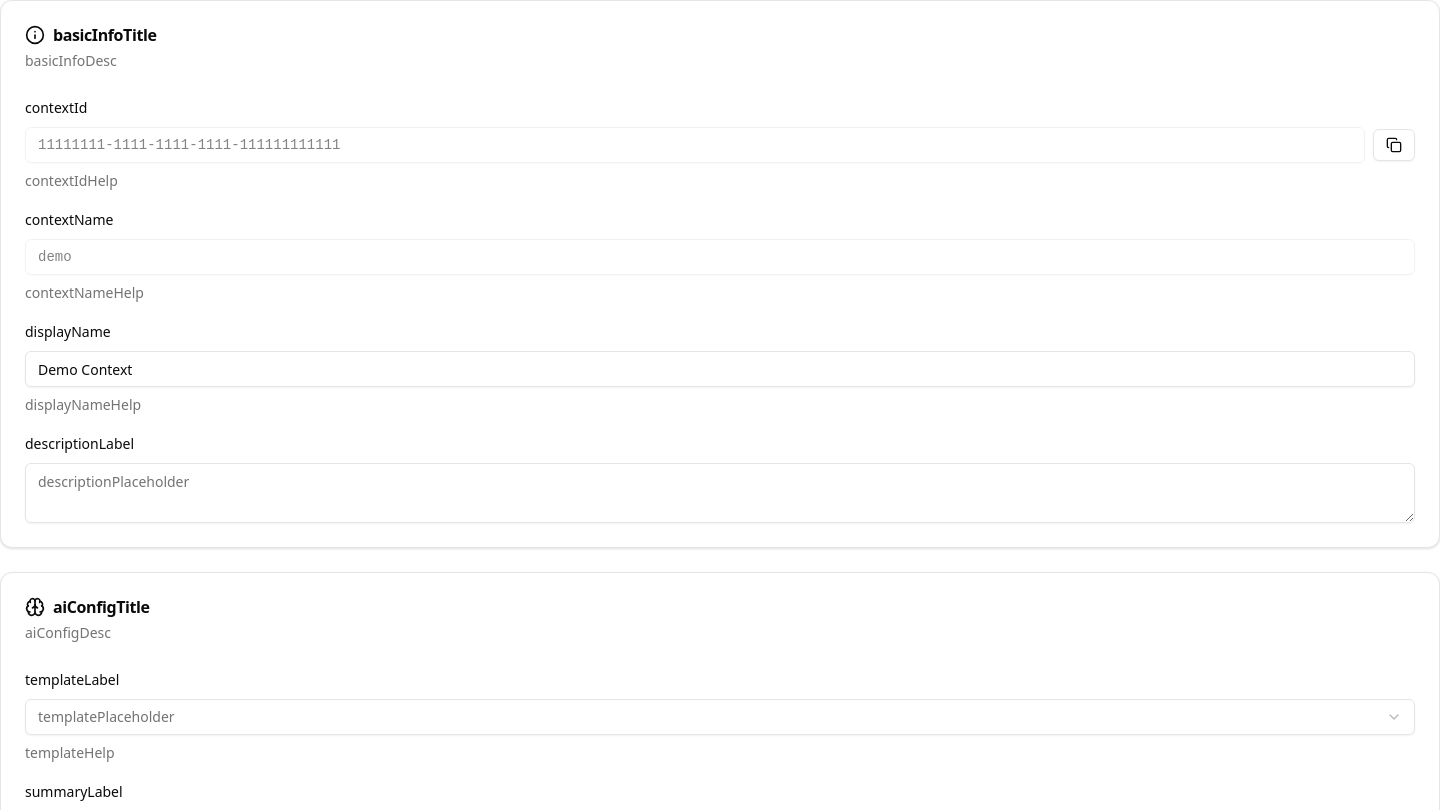
Scenario: SettingsTabPanel — dirty-field-only save (#1193) › edit-then-revert save is a no-op: no request, no refresh (#1194 review)
Step 1. Replace the text in the 3rd field showing "Demo Context" with "Renamed" → (720, 369), box [25,351,1415,387]
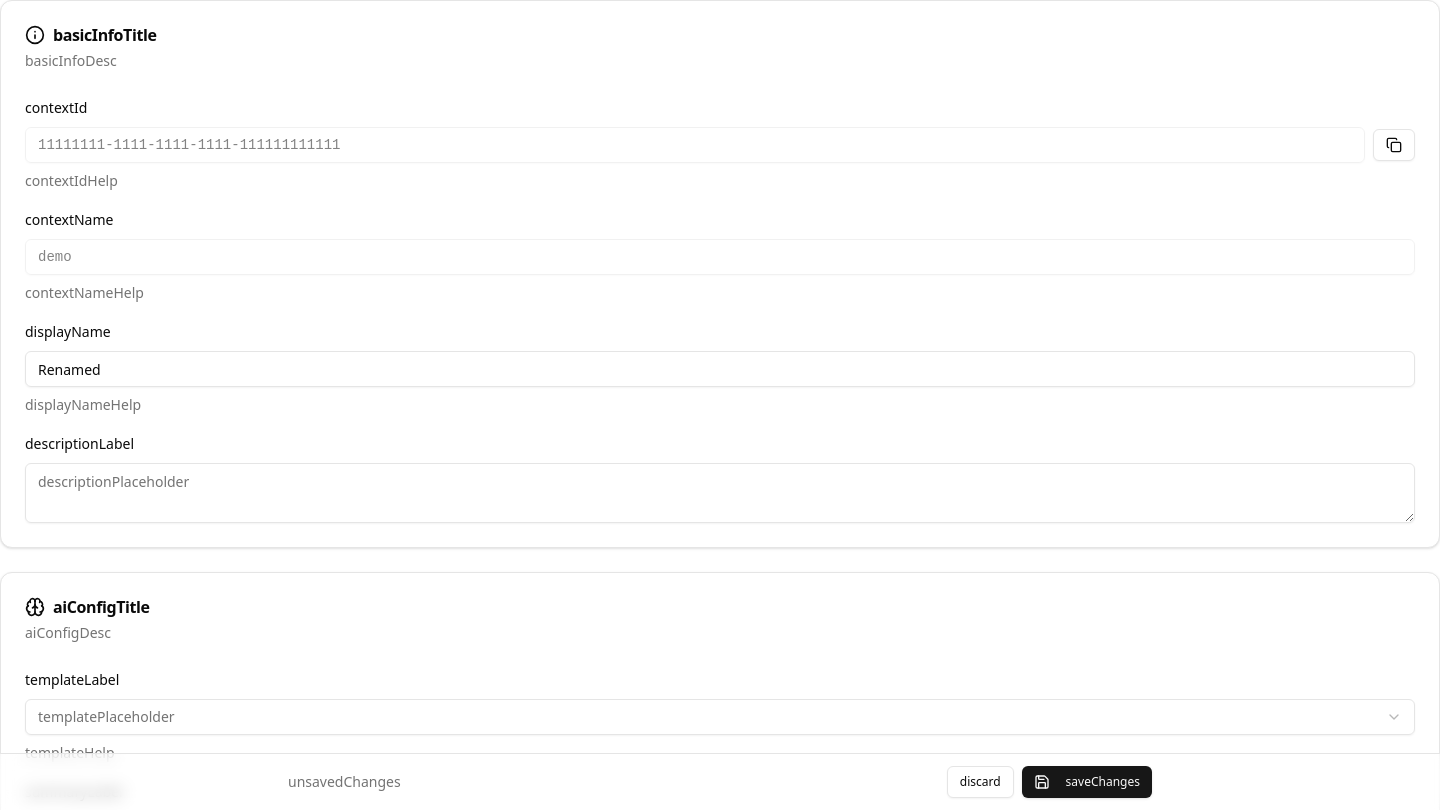
Step 2. Replace the text in the 3rd field showing "Demo Context" with "Demo Context" → (720, 369), box [25,351,1415,387]
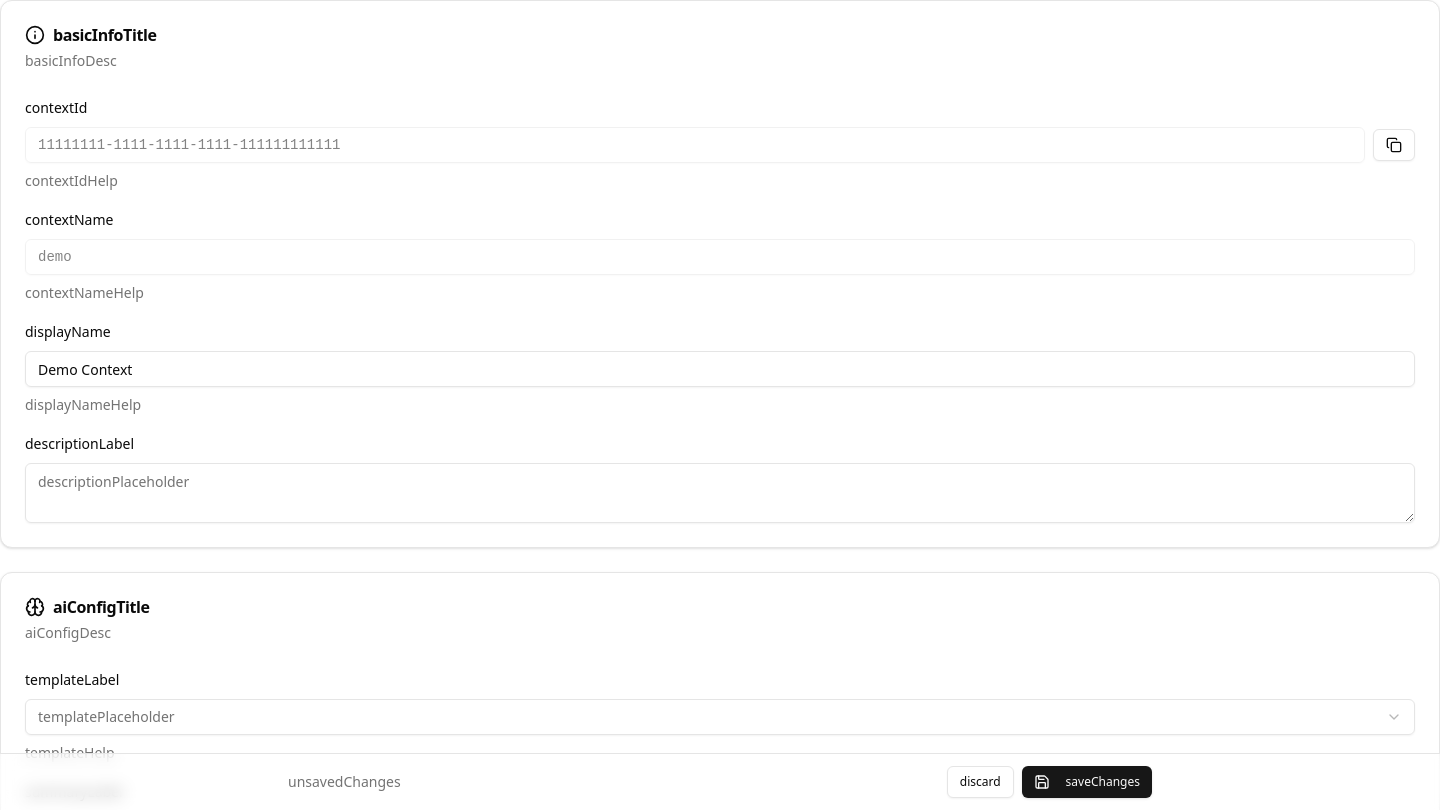
Step 3. Click the button "saveChanges" → click(1087, 782), box [1022,766,1152,798]
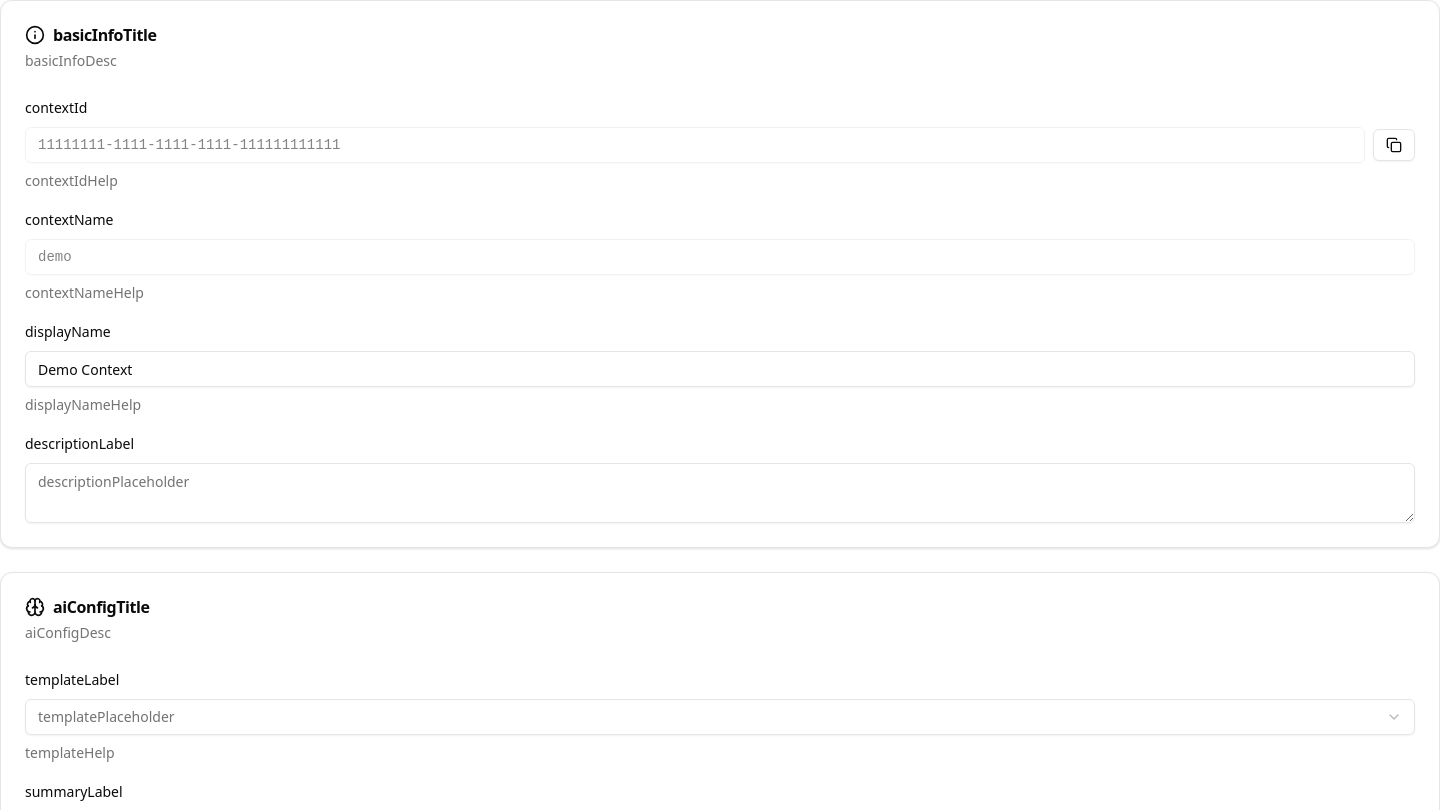
Expected: the button "saveChanges" is gone
